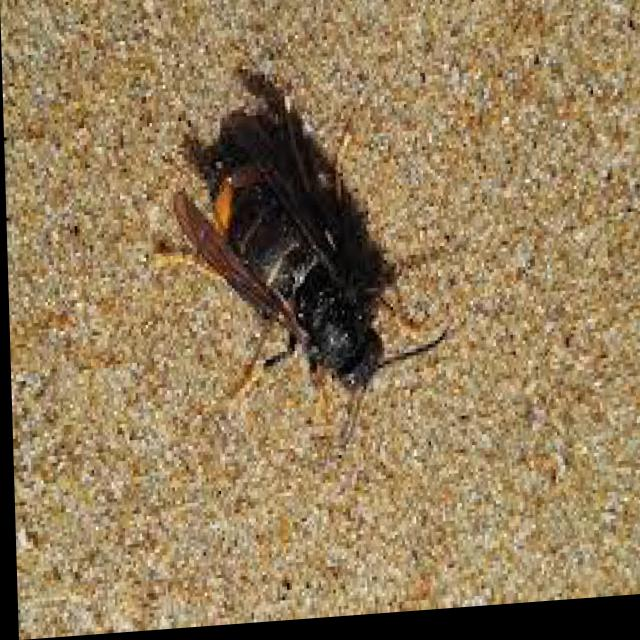Vespa Velutina: (158, 70, 454, 471)
